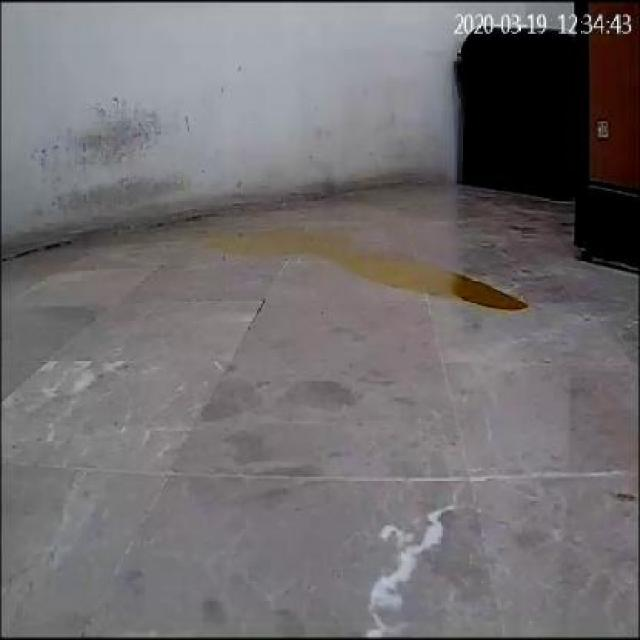spill: (221, 221, 534, 314)
